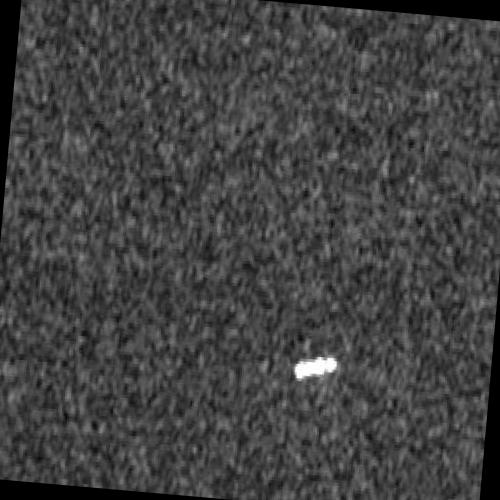ship: (292, 354, 337, 381)
